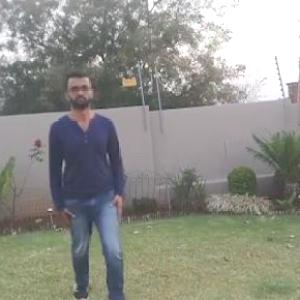follow: (54, 80, 123, 297)
